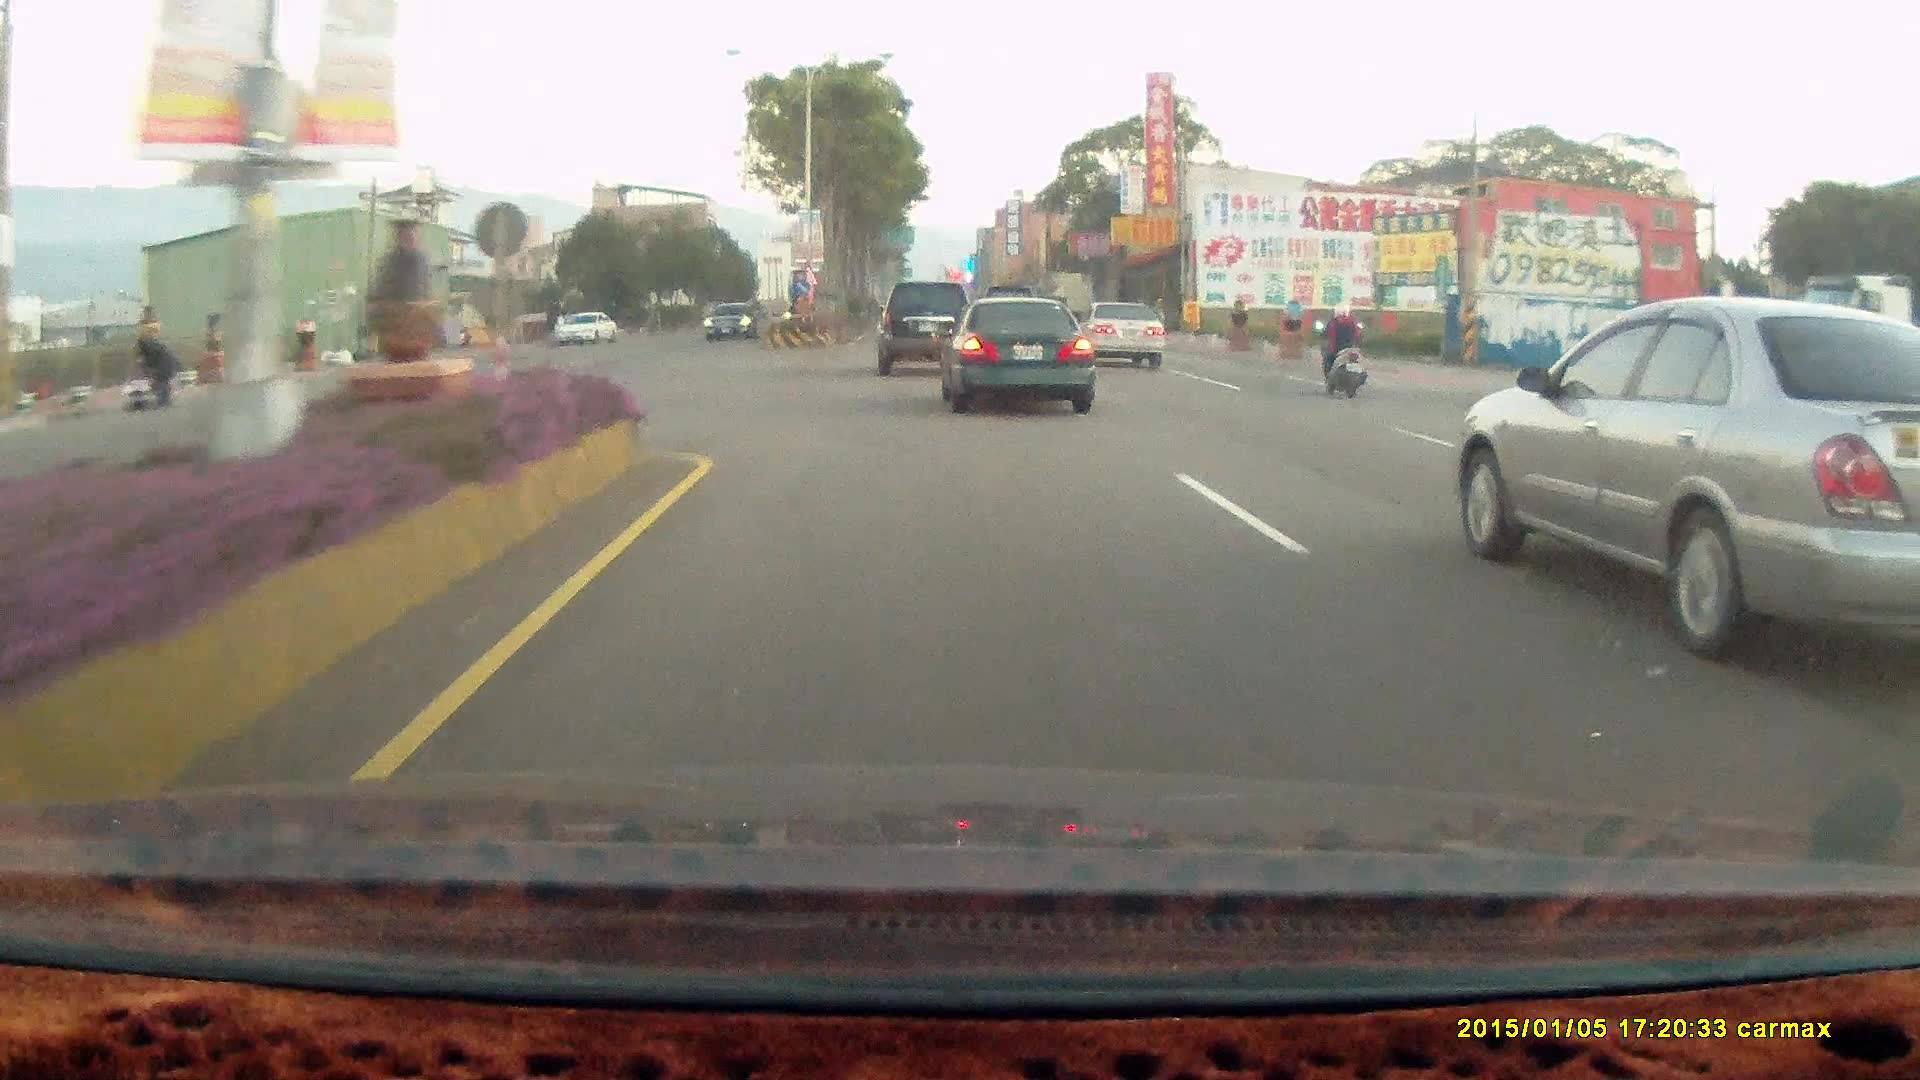pedestrian: (130, 330, 177, 406)
rider: (1307, 293, 1381, 407), (1311, 298, 1367, 396)
vehicle: (1448, 301, 1920, 669), (929, 291, 1088, 408), (948, 297, 1104, 416), (876, 279, 980, 378), (875, 280, 972, 375), (1077, 296, 1165, 366), (1078, 299, 1166, 365), (553, 309, 621, 348), (702, 302, 760, 345), (701, 300, 759, 341), (553, 308, 618, 343)
